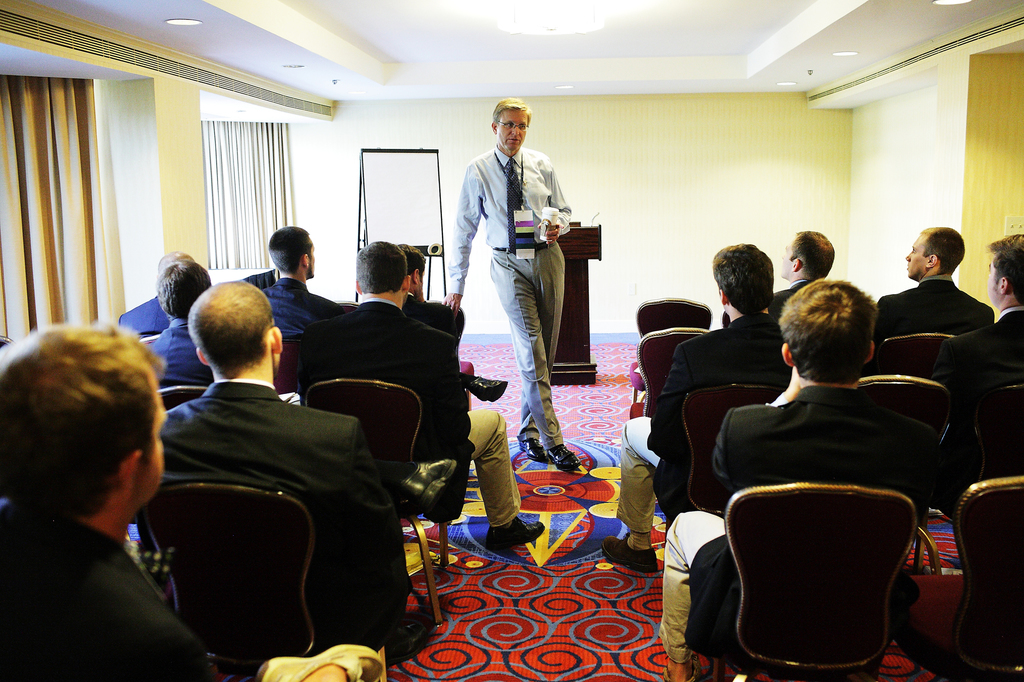Footwear: (253, 644, 385, 681), (396, 459, 456, 516), (481, 508, 545, 555), (601, 534, 658, 576), (545, 441, 580, 471), (470, 375, 507, 402), (663, 653, 698, 681), (520, 434, 546, 463)
